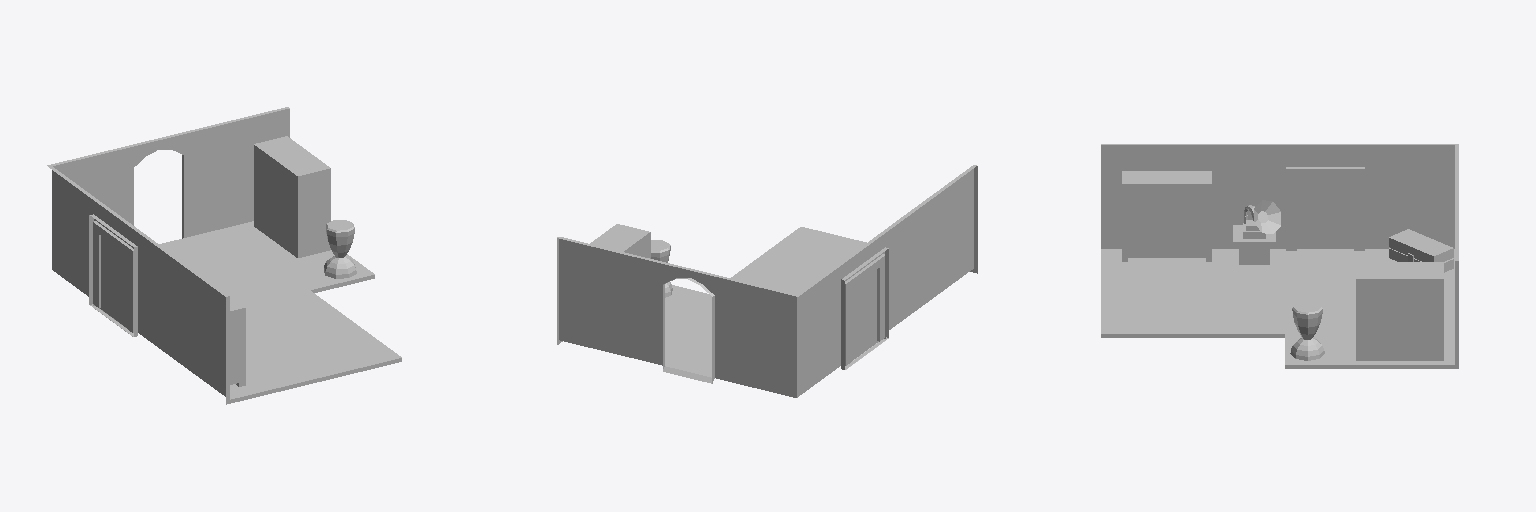
Rendered from quarto.obj.
3 views of the same model, side by side, from view 1: azimuth 30°, elevation 25°; view 2: azimuth 150°, elevation 25°; view 3: azimuth 270°, elevation 25° (orthographic).
Visible parts, largest first — view 1: Circle.003; view 2: Circle.003; view 3: Circle.003.
Boxes of the visible parts, x1=… form: Circle.003: x1=47, y1=107, x2=401, y2=404; Circle.003: x1=557, y1=165, x2=977, y2=397; Circle.003: x1=1101, y1=144, x2=1458, y2=368.
Size of the model in its own units: 6.21 by 2.63 by 7.93.